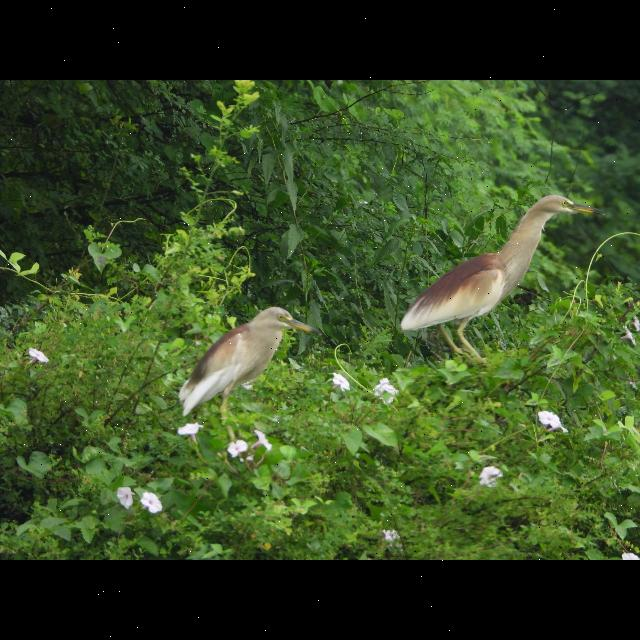heron: (380, 188, 602, 358), (170, 300, 322, 420)
